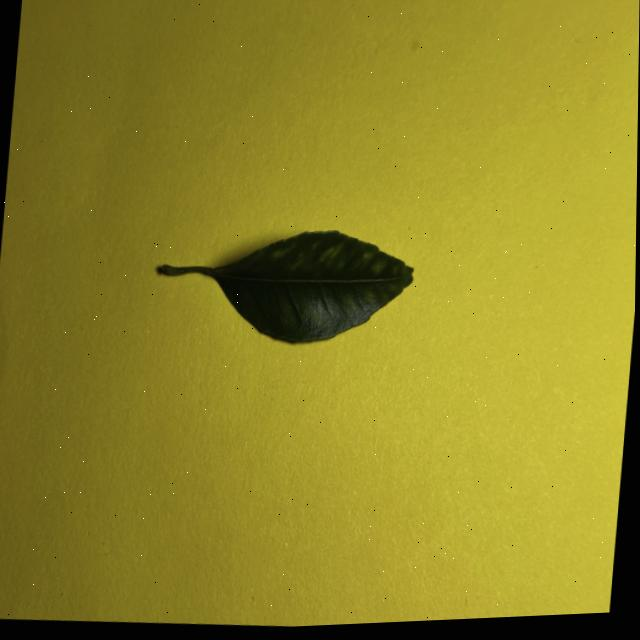greening: (160, 229, 413, 341)
